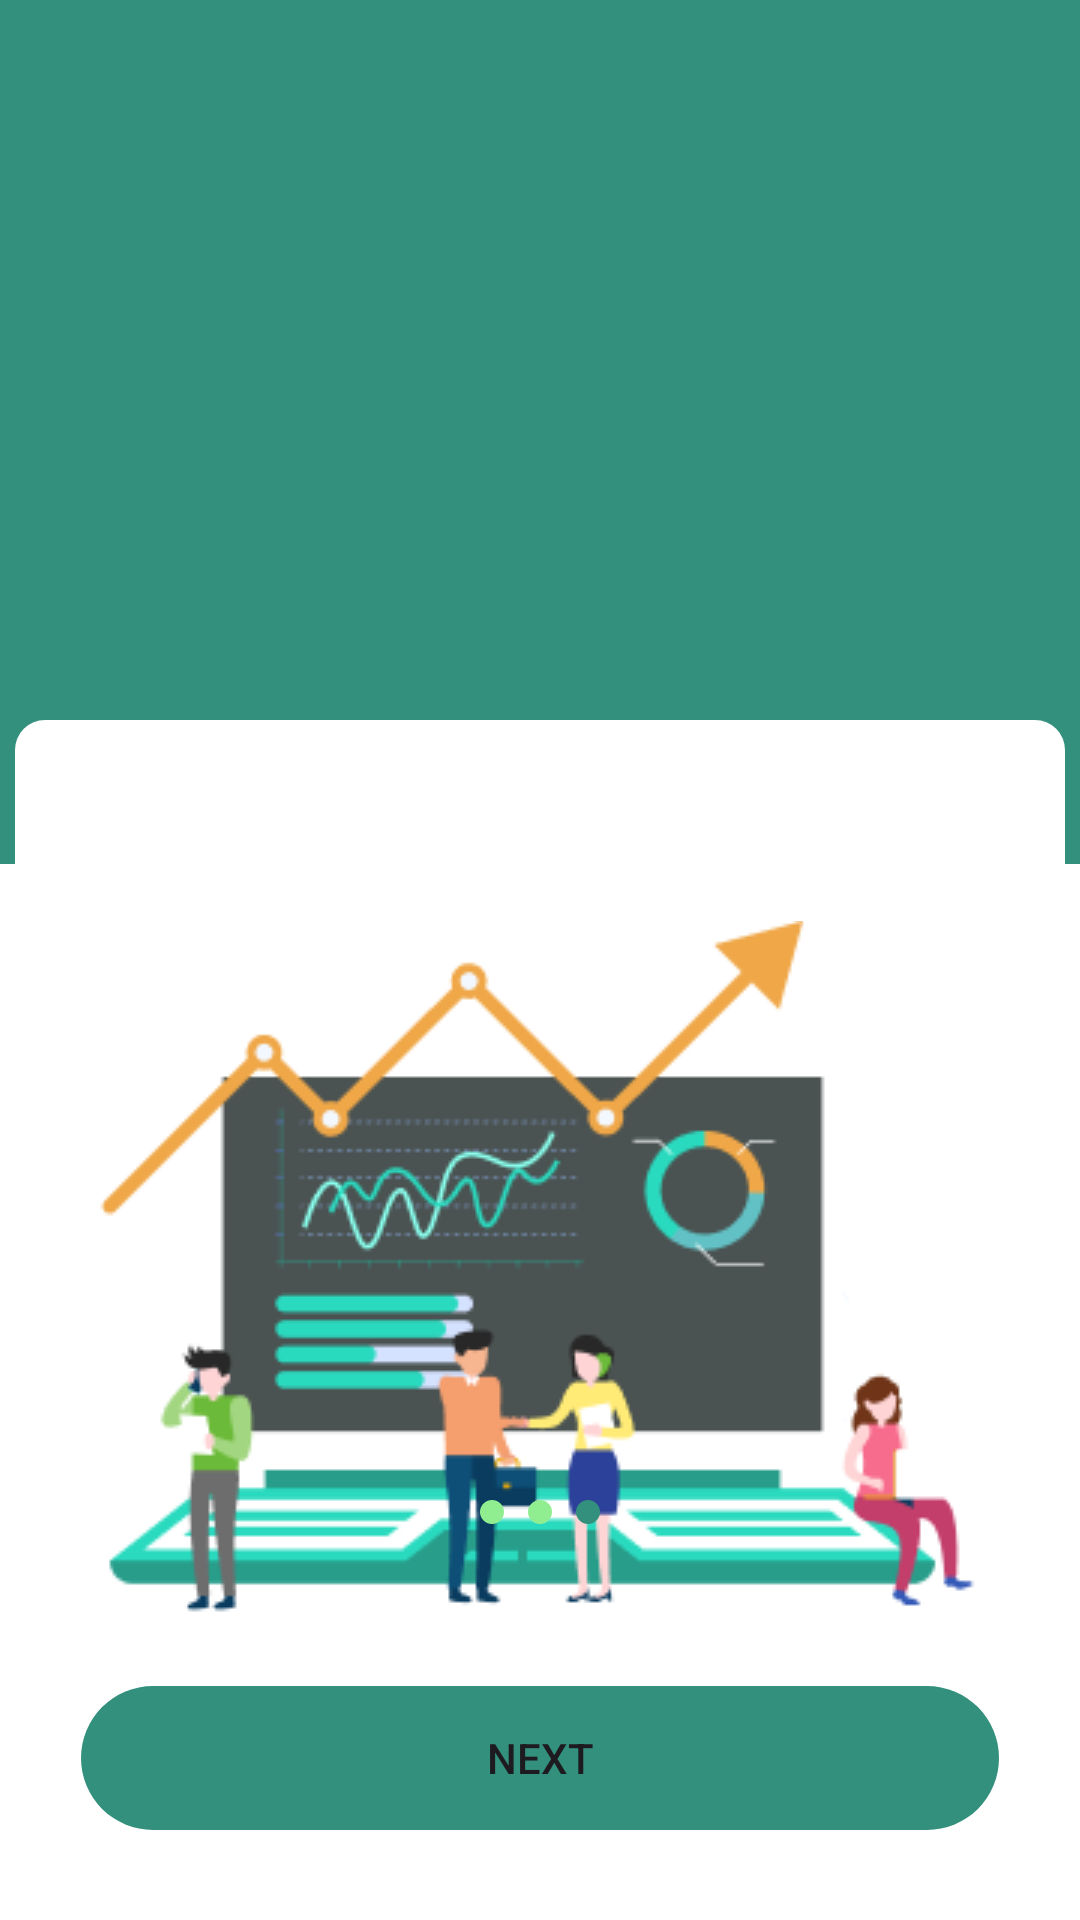

Icon click points for this 1080*1920 phone screenshot, format (x=x, y=y):
dot: (x=492, y=1512), (x=540, y=1512), (x=588, y=1512)
